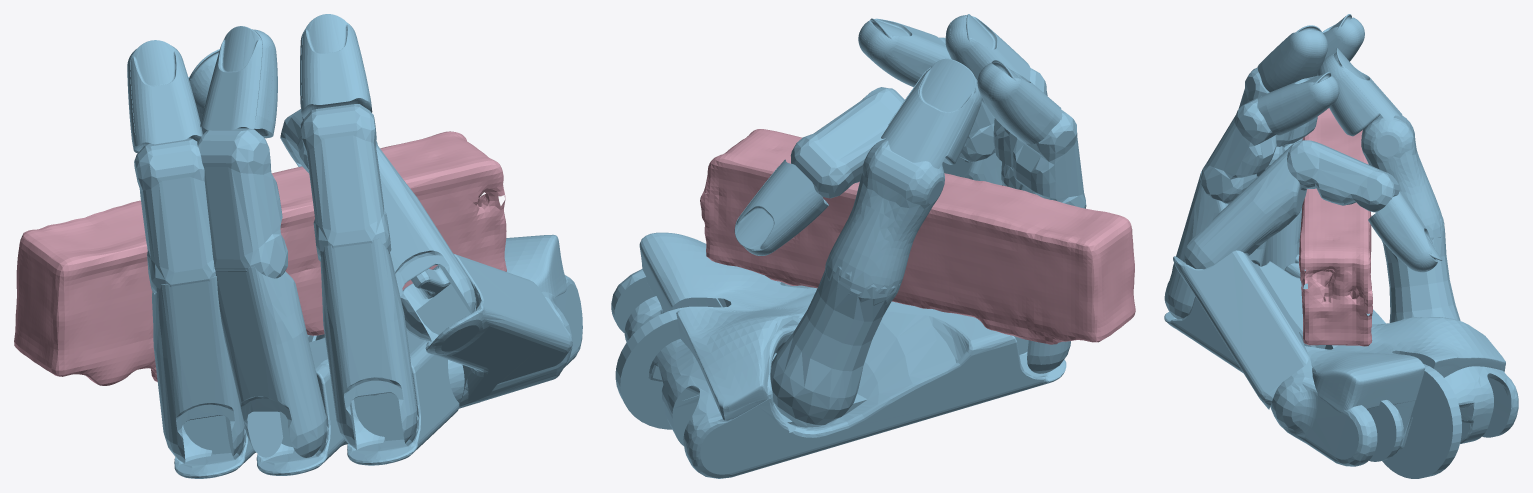
3 views of the same model, side by side, from view 1: azimuth 30°, elevation 25°; view 2: azimuth 150°, elevation 25°; view 3: azimuth 270°, elevation 25° (orthographic). The views are drawn at different scales.
Parts seen in each view (by area): view 1: hand, world; view 2: hand, world; view 3: hand, world.
Boxes of the visible parts, x1=… form: hand: x1=127, y1=14, x2=582, y2=478; world: x1=14, y1=131, x2=506, y2=385; hand: x1=611, y1=14, x2=1086, y2=478; world: x1=700, y1=129, x2=1135, y2=344; hand: x1=1164, y1=14, x2=1518, y2=478; world: x1=1298, y1=108, x2=1372, y2=346.
Size of the model in its own units: 0.1603 by 0.132 by 0.119.
